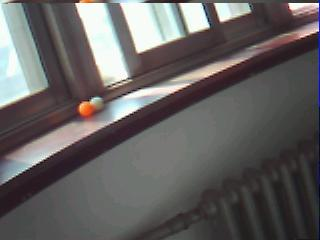oball: (78, 102, 94, 117)
